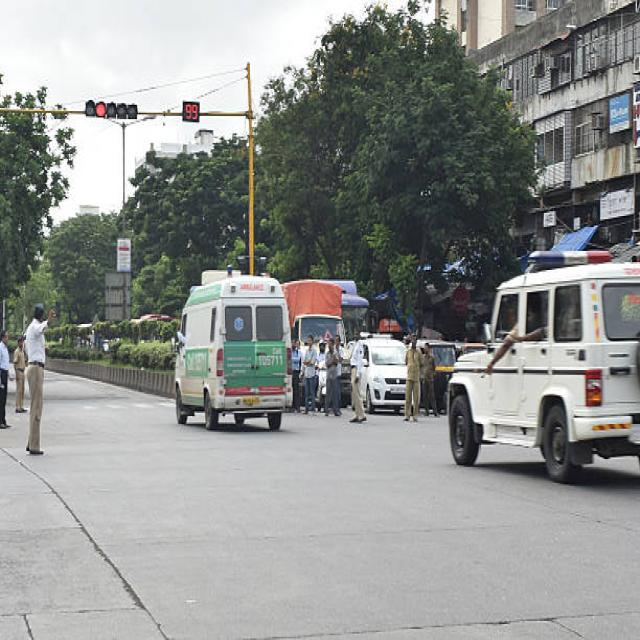ambulance: (165, 254, 298, 466), (230, 278, 265, 312)
